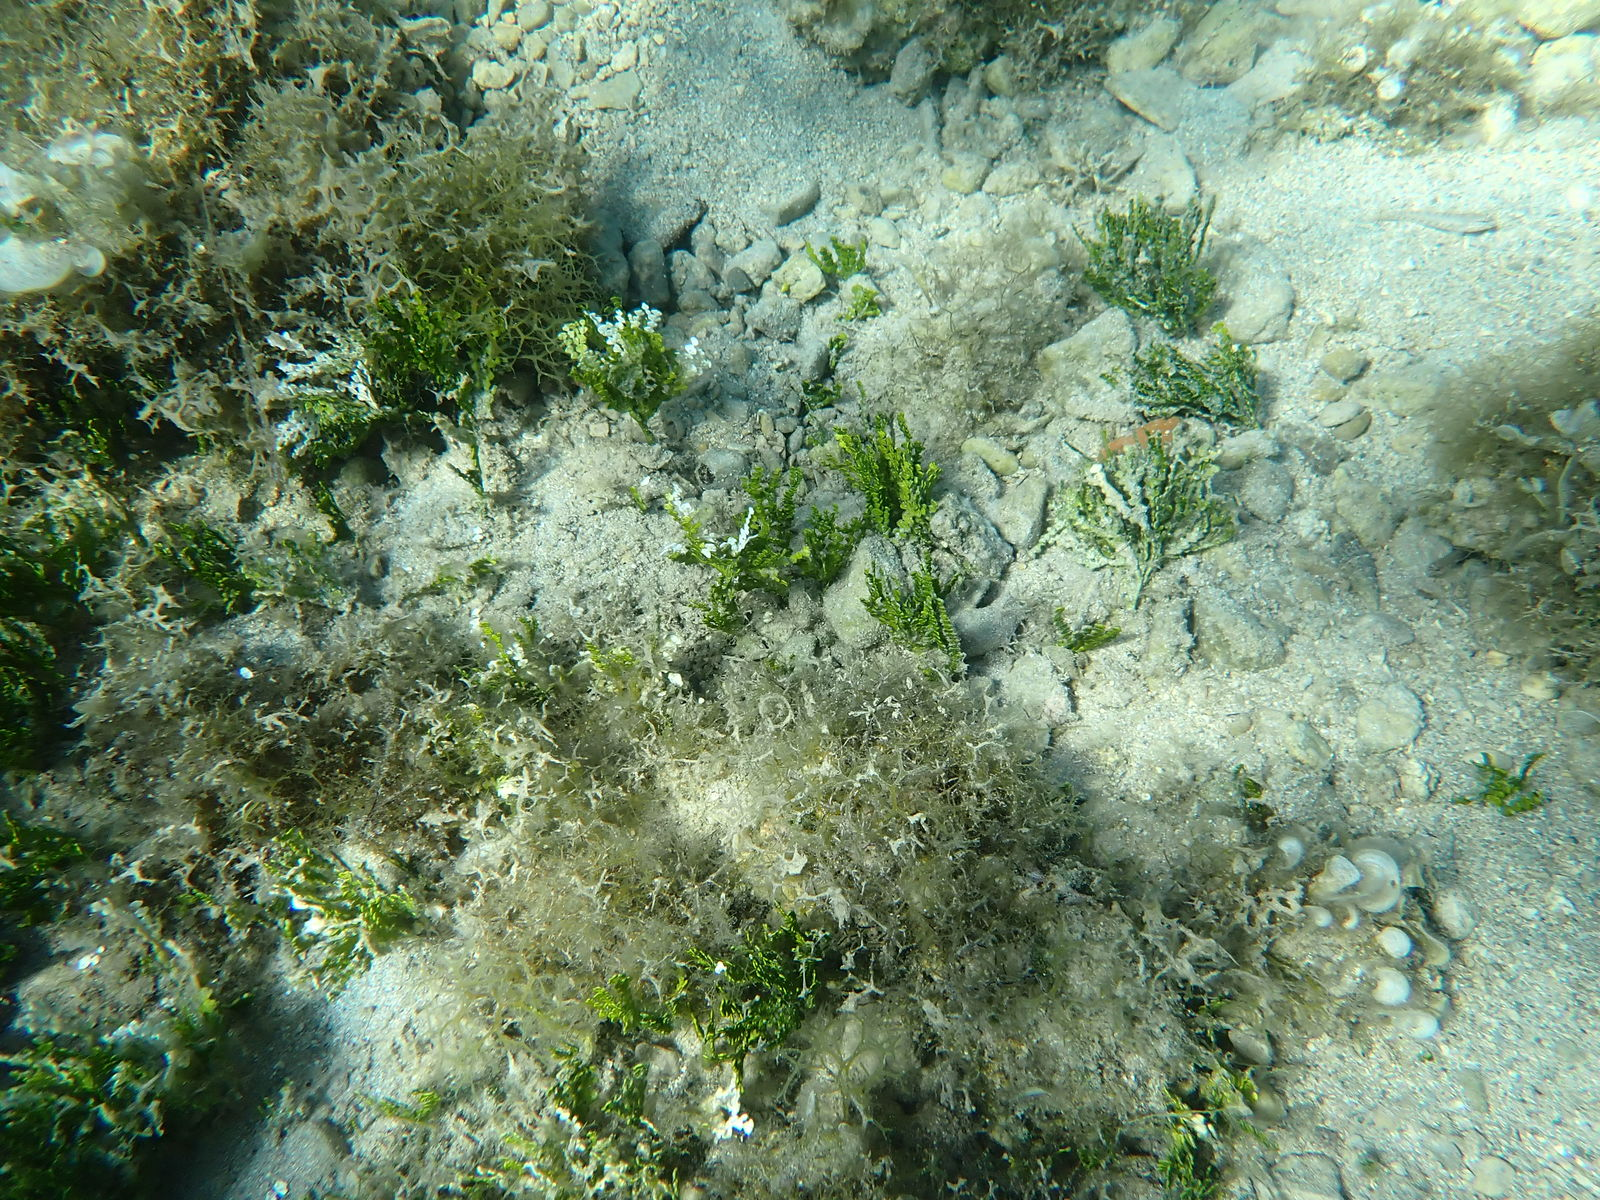halimeda: (1065, 425, 1240, 589), (1072, 193, 1225, 334), (559, 296, 712, 435), (265, 330, 414, 463), (1112, 321, 1266, 422), (1, 1042, 165, 1137), (826, 408, 940, 539), (562, 1102, 682, 1200), (860, 555, 963, 669), (688, 997, 808, 1089), (285, 857, 418, 932), (449, 1126, 568, 1200), (94, 895, 193, 976), (374, 292, 464, 376), (242, 541, 349, 610), (1028, 480, 1120, 558), (73, 437, 139, 542), (724, 518, 813, 594), (157, 521, 233, 603), (750, 913, 820, 1000), (460, 267, 496, 425), (1, 812, 84, 879), (1473, 747, 1553, 814), (305, 925, 370, 996), (1157, 1117, 1212, 1200), (740, 468, 803, 541), (1, 616, 57, 697), (663, 493, 721, 563), (425, 373, 479, 445), (117, 1015, 209, 1055), (808, 511, 864, 575), (1049, 603, 1121, 653), (480, 618, 543, 674), (357, 1085, 449, 1121), (588, 972, 639, 1035), (209, 891, 278, 937), (602, 1060, 650, 1126), (805, 236, 876, 280), (265, 831, 316, 889), (582, 640, 643, 689), (307, 480, 351, 545), (690, 584, 755, 626), (1213, 1065, 1261, 1122), (28, 505, 74, 563), (6, 543, 59, 587), (552, 1032, 587, 1092), (687, 950, 750, 983), (1162, 1087, 1212, 1127), (443, 450, 488, 493), (436, 558, 498, 587), (844, 284, 883, 321), (825, 325, 847, 393), (183, 979, 215, 1015), (797, 376, 837, 402), (721, 551, 747, 587), (640, 1007, 670, 1039), (472, 773, 514, 793), (666, 979, 693, 1007), (630, 487, 650, 511), (467, 700, 480, 730), (855, 379, 866, 400), (781, 279, 791, 297)
